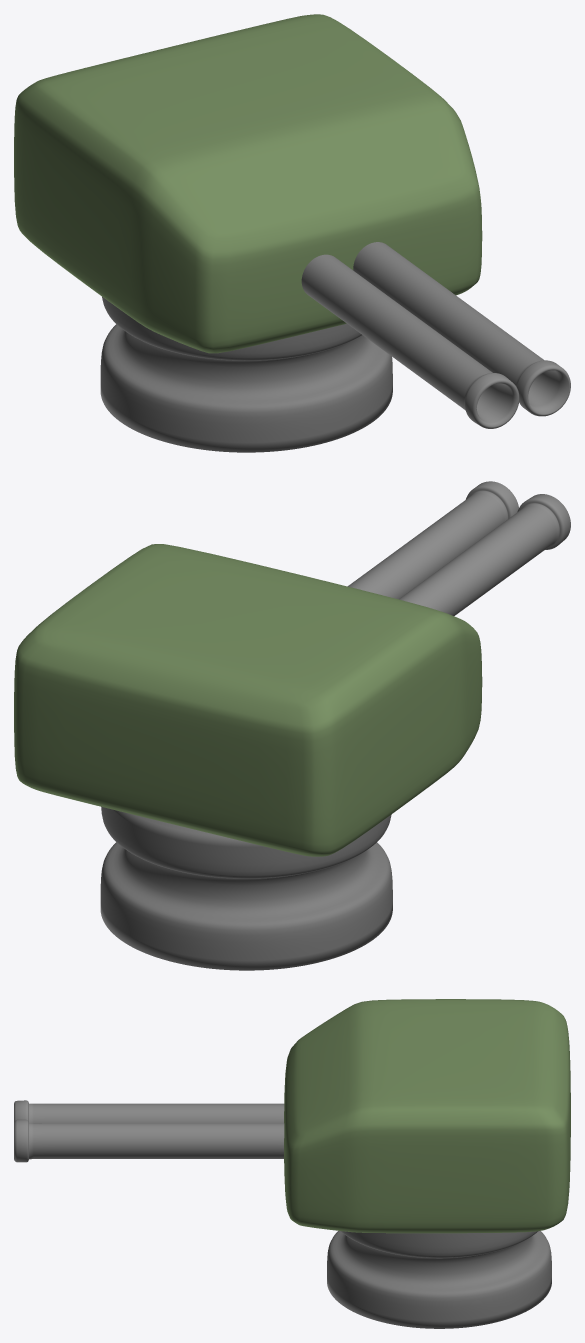
File: turret.fbx
3 renders of one model, top to bottom at view 1: azimuth 30°, elevation 25°; view 2: azimuth 150°, elevation 25°; view 3: azimuth 270°, elevation 25°, orthographic. The views are drawn at different scales.
Parts seen in each view (by area): view 1: turret, platform, gun; view 2: turret, platform, gun; view 3: turret, platform, gun.
Part boxes in pixels (x1=…): turret: x1=14, y1=14, x2=482, y2=353; platform: x1=100, y1=297, x2=392, y2=452; gun: x1=301, y1=242, x2=570, y2=428; turret: x1=14, y1=544, x2=482, y2=856; platform: x1=100, y1=806, x2=392, y2=970; gun: x1=347, y1=481, x2=570, y2=615; turret: x1=284, y1=999, x2=570, y2=1233; platform: x1=327, y1=1231, x2=551, y2=1328; gun: x1=14, y1=1100, x2=284, y2=1162.
Bounding box in the file's own units: 49.93 × 43.98 × 96.51.
